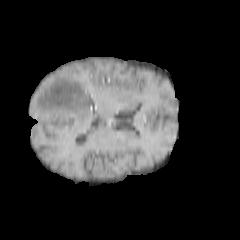glioma: (33, 78, 95, 124)
